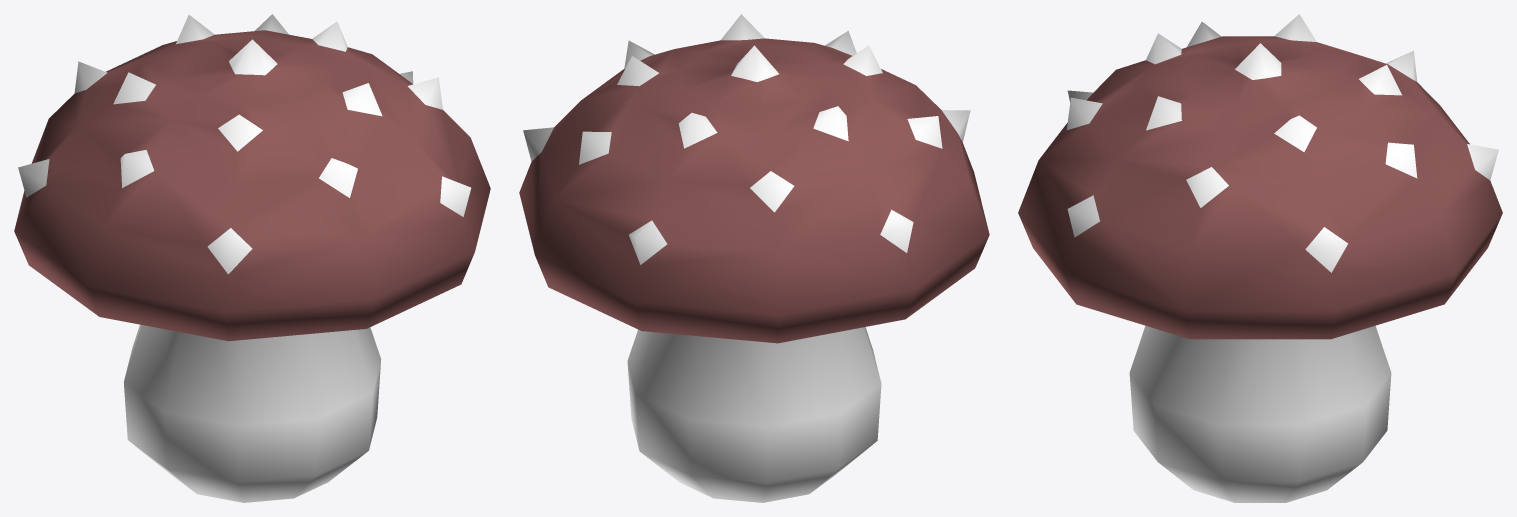
The model's file is ToyObject_041.fbx.
3 renders of one model, left to right at view 1: azimuth 30°, elevation 25°; view 2: azimuth 150°, elevation 25°; view 3: azimuth 270°, elevation 25°, orthographic.
Visible parts, largest first — view 1: 1.035; view 2: 1.035; view 3: 1.035.
Part boxes in pixels (left/top/right/bottom): 1.035: left=14, top=14, right=490, bottom=502; 1.035: left=519, top=14, right=989, bottom=502; 1.035: left=1018, top=14, right=1502, bottom=502.
Size of the model in its own units: 0.1535 by 0.1579 by 0.1614.
